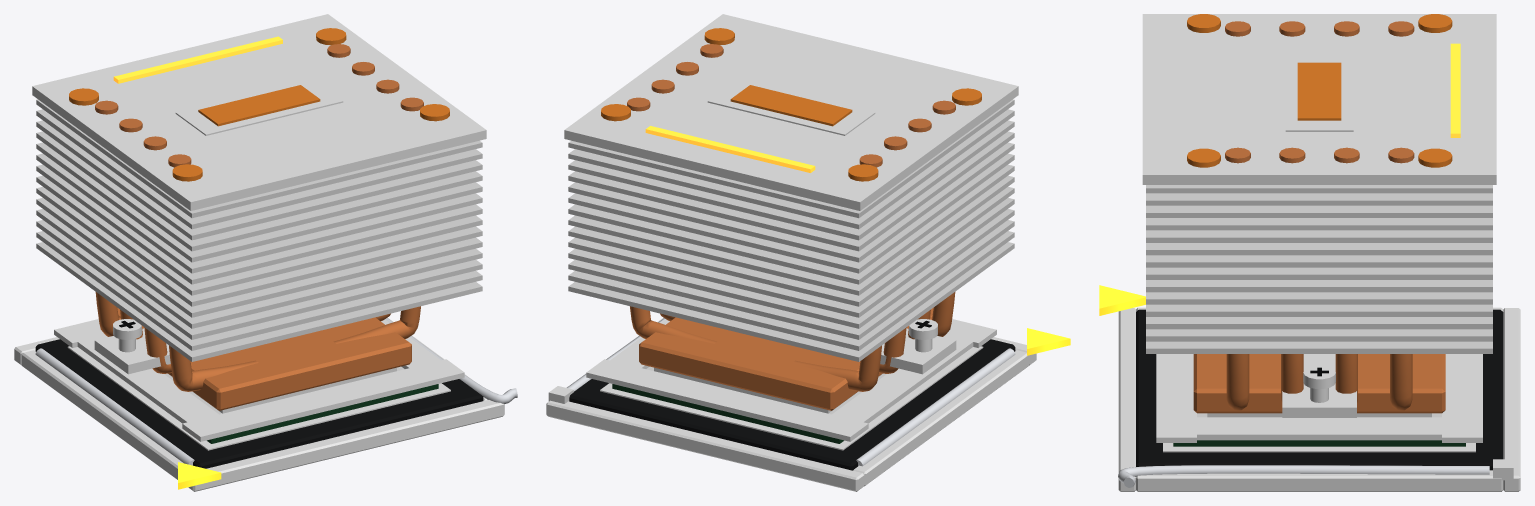
File: hwm_cpu_epyc_4564p.glb
The picture shows the model from 3 angles, left to right: view 1: azimuth 30°, elevation 25°; view 2: azimuth 150°, elevation 25°; view 3: azimuth 270°, elevation 25°; orthographic projection. The views are drawn at different scales.
Visible parts, largest first — view 1: Cooler, Socket, Frame, CPU, Screw_0, Lever; view 2: Cooler, Socket, Frame, CPU, Screw_0; view 3: Cooler, Socket, Frame, Lever, CPU, Screw_1.
Boxes of the visible parts, x1=… form: Cooler: x1=32, y1=14, x2=486, y2=410; Socket: x1=14, y1=320, x2=504, y2=491; Frame: x1=54, y1=319, x2=464, y2=441; CPU: x1=164, y1=366, x2=438, y2=443; Screw_0: x1=113, y1=319, x2=141, y2=352; Lever: x1=385, y1=317, x2=517, y2=403; Cooler: x1=564, y1=14, x2=1018, y2=410; Socket: x1=546, y1=317, x2=1070, y2=491; Frame: x1=586, y1=319, x2=996, y2=441; CPU: x1=612, y1=366, x2=886, y2=443; Screw_0: x1=909, y1=319, x2=937, y2=352; Cooler: x1=1142, y1=14, x2=1496, y2=417; Socket: x1=1099, y1=285, x2=1520, y2=491; Frame: x1=1156, y1=354, x2=1482, y2=442; Lever: x1=1118, y1=465, x2=1489, y2=487; CPU: x1=1173, y1=413, x2=1465, y2=446; Screw_1: x1=1303, y1=365, x2=1335, y2=402.
Size of the model in its own units: 0.1338 by 0.1036 by 0.1239.
